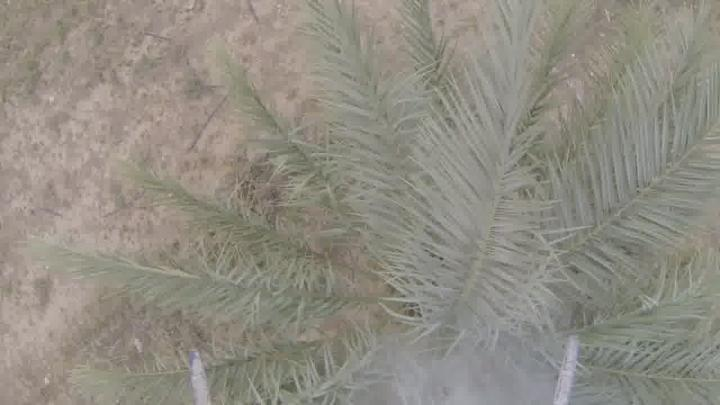Date-Palm-Crown: (230, 92, 680, 404)
